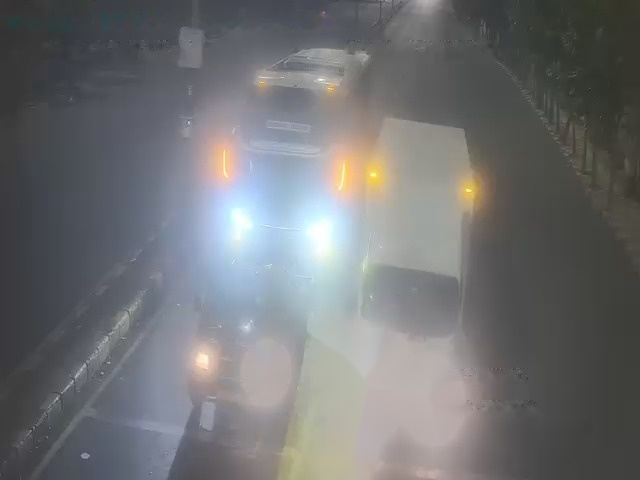Bis: (232, 41, 375, 259)
